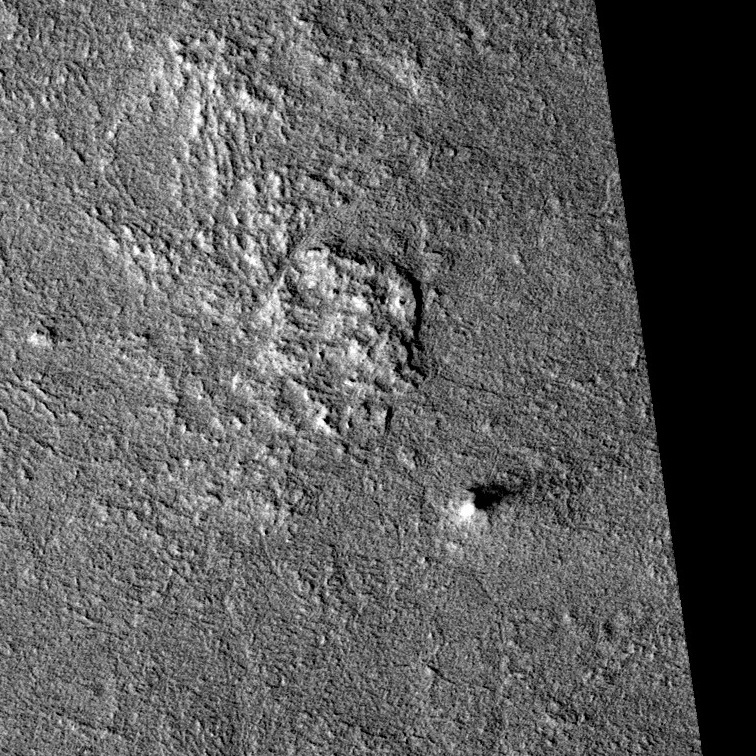dust_devil: (453, 480, 515, 530)
